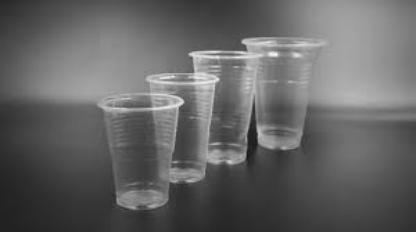Plastic Cup: (248, 29, 326, 150), (100, 87, 176, 211), (146, 71, 220, 183), (192, 45, 252, 167)
